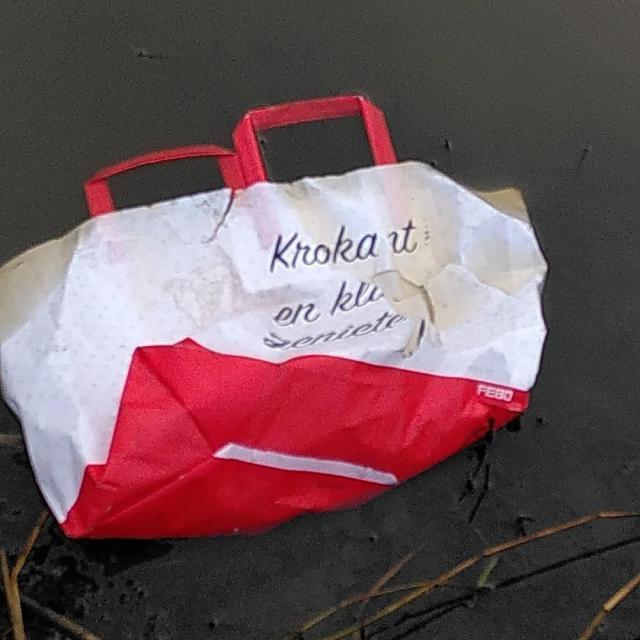Paper: (0, 94, 550, 538)
